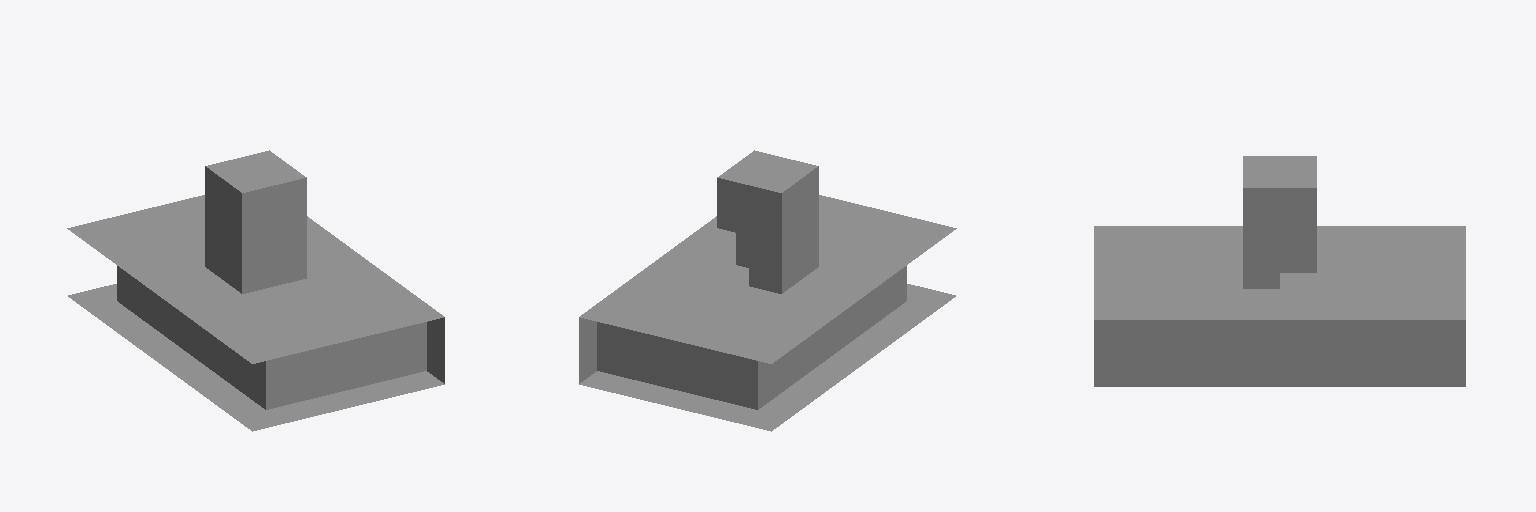
The model's file is book.obj.
The picture shows the model from 3 angles: view 1: azimuth 30°, elevation 25°; view 2: azimuth 150°, elevation 25°; view 3: azimuth 270°, elevation 25°; orthographic projection.
Bounding box in the file's own units: 0.375 × 0.3125 × 0.625.